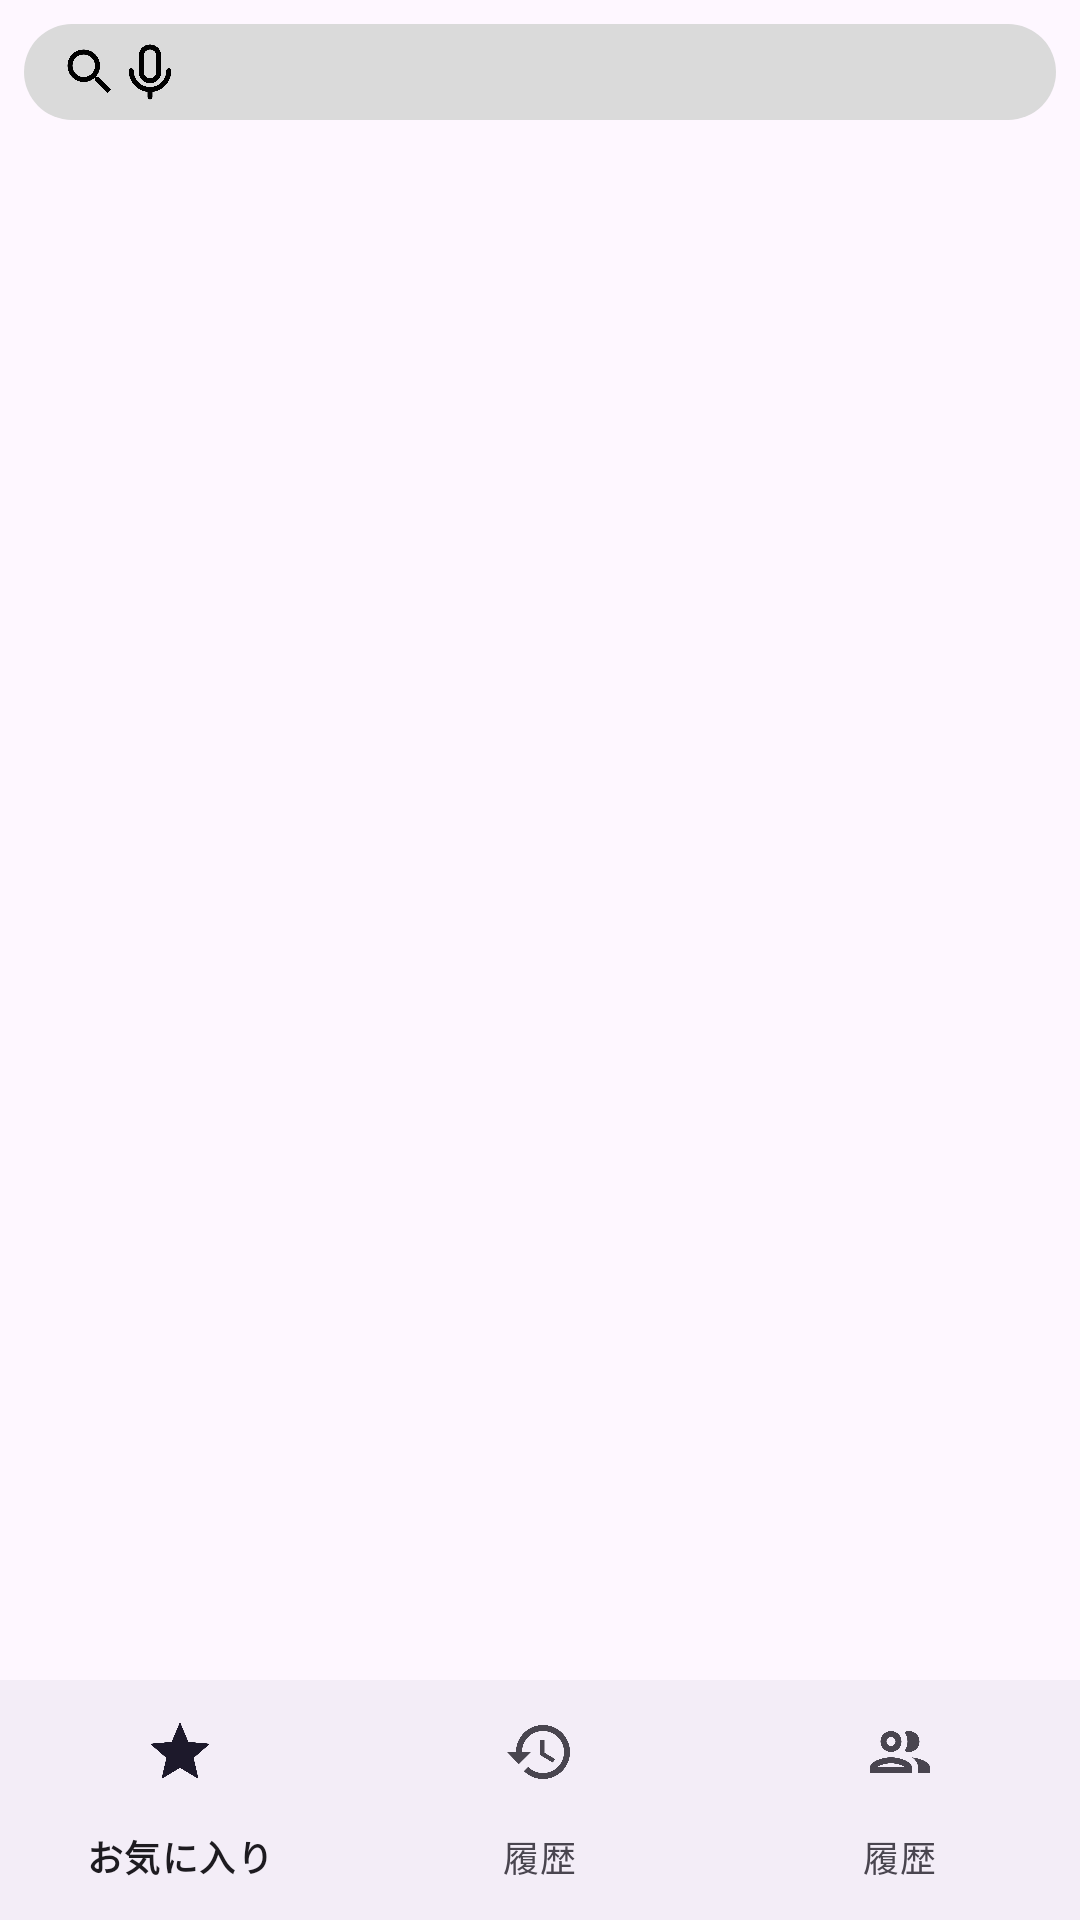

Named icons in this screenshot (1080 × 1920) and their centers, [x,y]:
search: [89,71]
voice recognition: [150,72]
